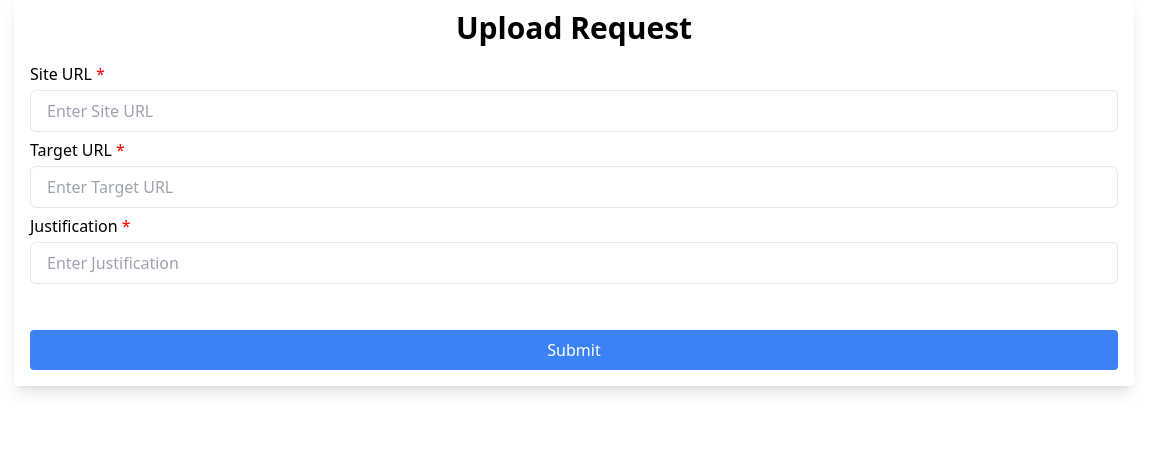
Test: UploadRequest Component › shows validation error for invalid URLs
Type "invalid-url" into the field with placeholder "Enter Site URL".
click(574, 111); type("invalid-url")  # box [47,91,1101,131]
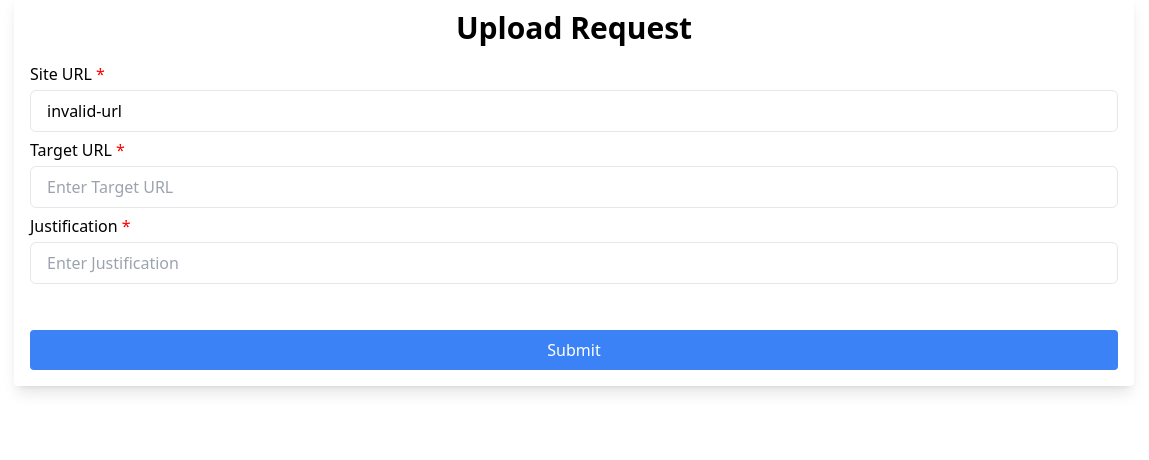
Type "invalid-url" into the field with placeholder "Enter Target URL".
click(574, 187); type("invalid-url")  # box [47,167,1101,207]
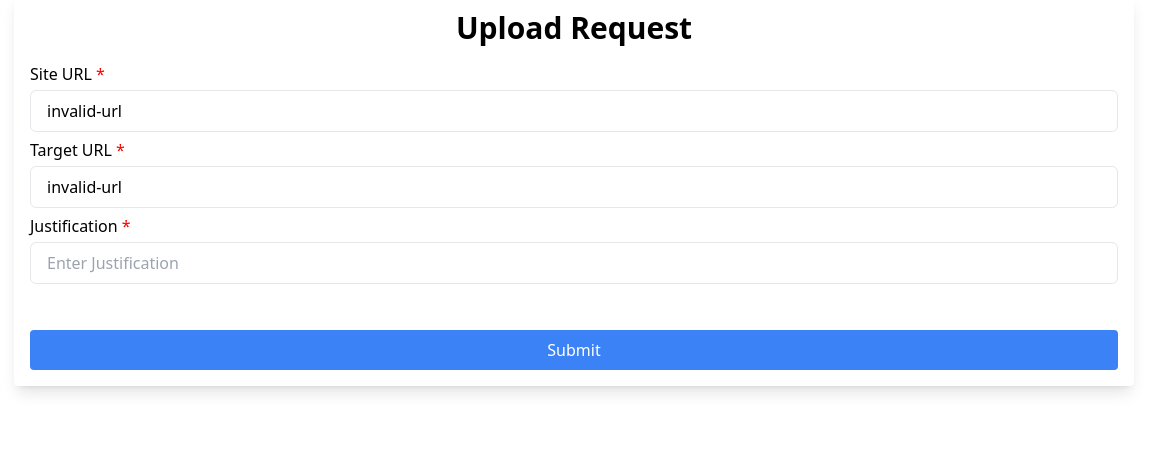
Type "Some justification" into the field with placeholder "Enter Justification".
click(574, 263); type("Some justification")  # box [47,243,1101,283]
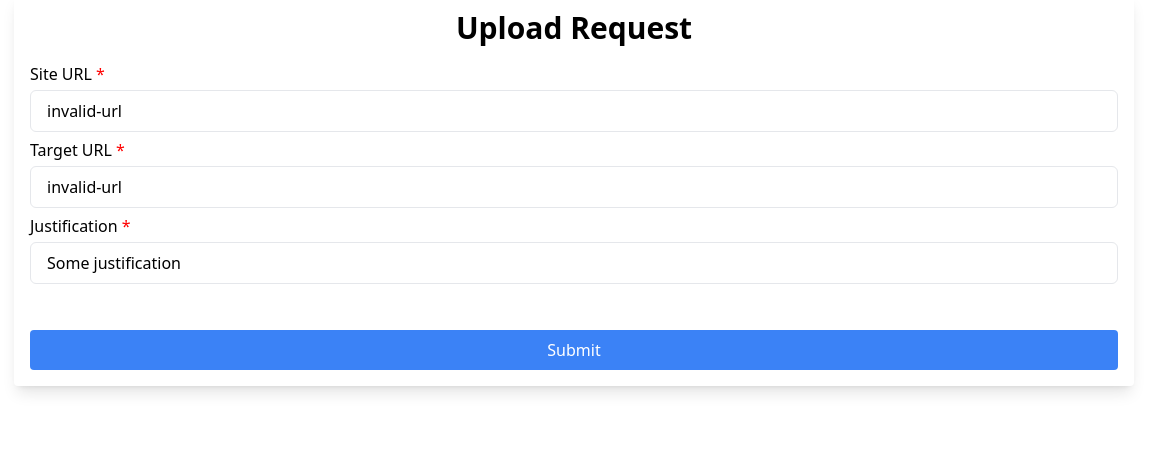
Click the button "Submit".
click(574, 350)  # box [30,330,1118,370]
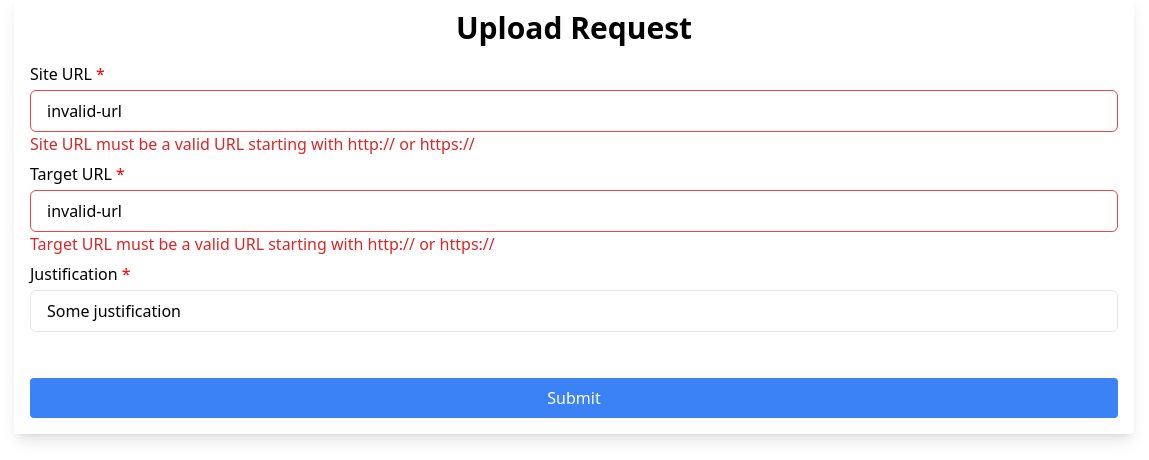
Expected: the text "Site URL must be a valid URL starting with http:// or https://" is shown, [30,133,475,155]
Expected: the text "Target URL must be a valid URL starting with http:// or https://" is shown, [30,233,495,255]
